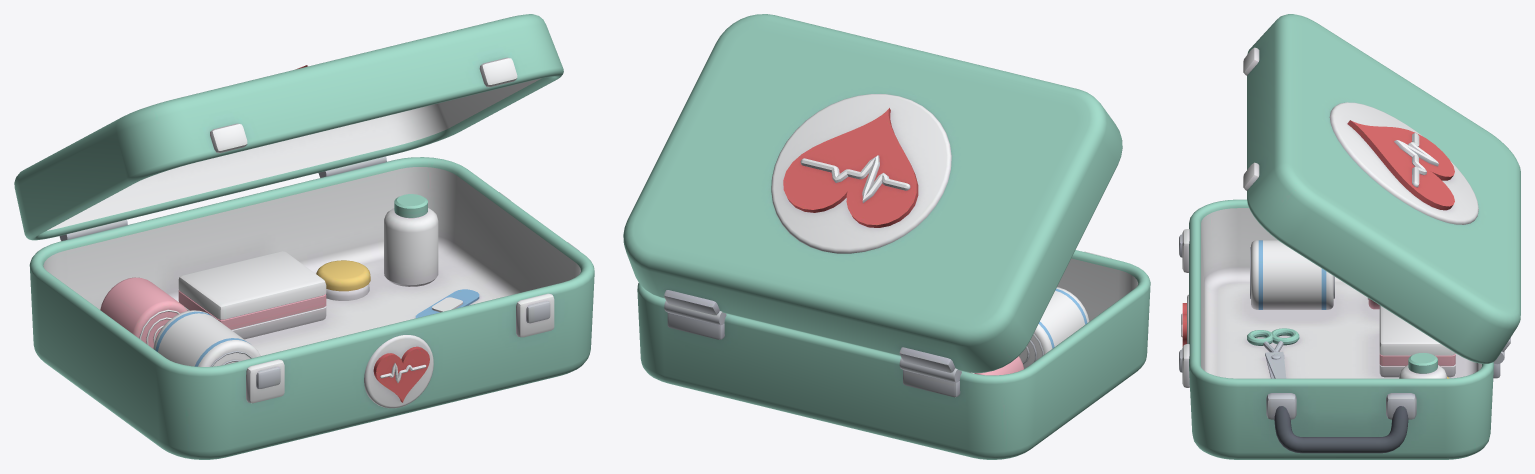
Rendered from first-aid-kit.glb.
3 views of the same model, side by side, from view 1: azimuth 30°, elevation 25°; view 2: azimuth 150°, elevation 25°; view 3: azimuth 270°, elevation 25° (orthographic). The views are drawn at different scales.
Parts seen in each view (by area): view 1: first-aid-kit_body, first-aid-kit_lid; view 2: first-aid-kit_lid, first-aid-kit_body; view 3: first-aid-kit_lid, first-aid-kit_body.
Boxes of the visible parts, bbox=[...] form: first-aid-kit_body: bbox=[29, 156, 594, 459]; first-aid-kit_lid: bbox=[14, 14, 563, 240]; first-aid-kit_lid: bbox=[623, 14, 1122, 372]; first-aid-kit_body: bbox=[637, 250, 1150, 459]; first-aid-kit_lid: bbox=[1243, 14, 1520, 363]; first-aid-kit_body: bbox=[1179, 199, 1504, 459].
Size of the model in its own units: 0.4274 by 0.2858 by 0.3137.
2 materials, 2 textured.
